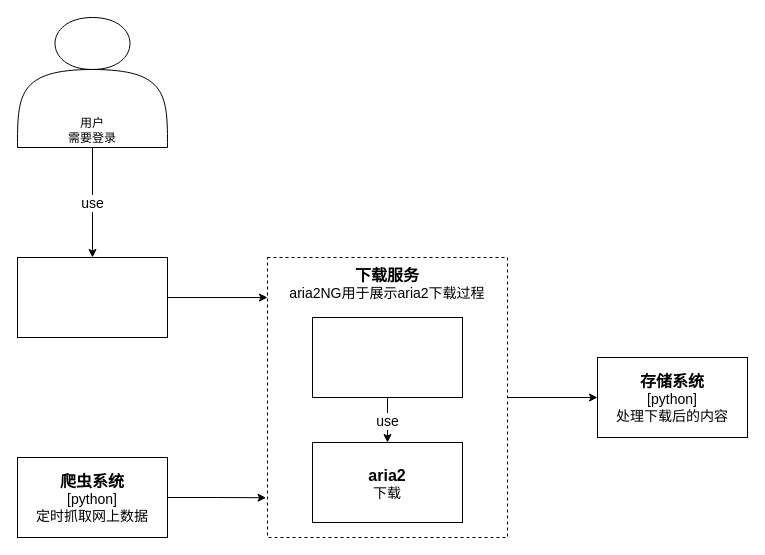
Some shapes in this 765 by 555 pixel diagram are drawn without their labels. Each missing label, with the box of its shape:
aria2NG [nginx] 管理aria2: (312, 316, 462, 398)
管理系统 [java and springboot] 查看，新建下载: (16, 256, 168, 338)
